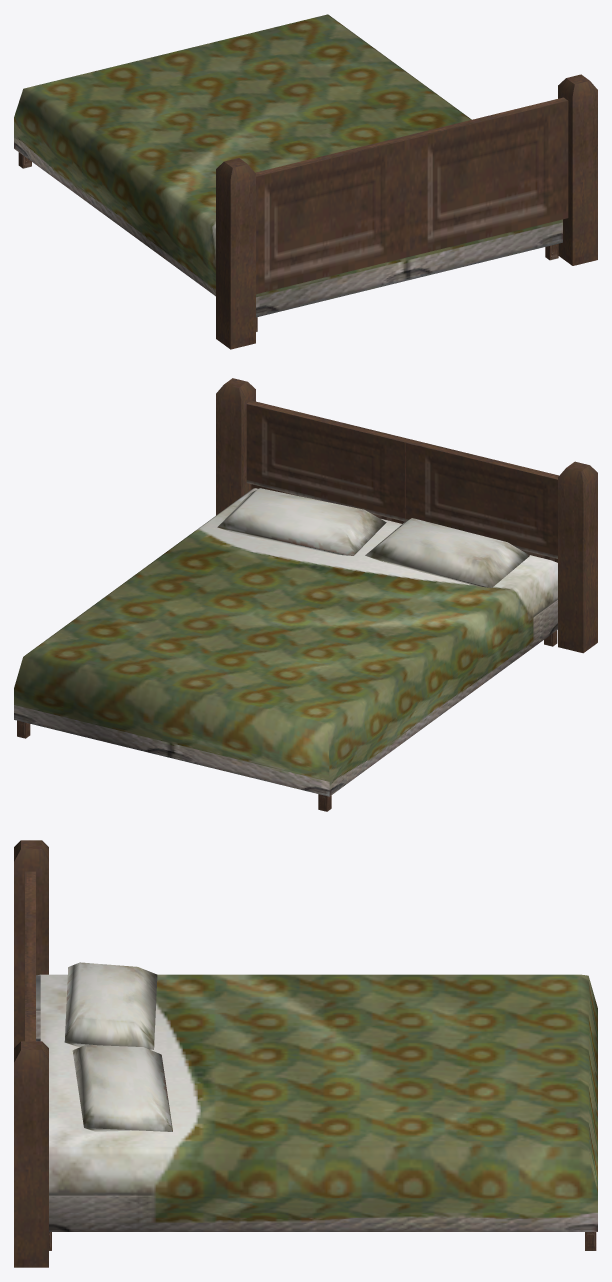
Rendered from slum_kingwood1.fbx.
3 renders of one model, top to bottom at view 1: azimuth 30°, elevation 25°; view 2: azimuth 150°, elevation 25°; view 3: azimuth 270°, elevation 25°, orthographic. The views are drawn at different scales.
Parts seen in each view (by area): view 1: mesh_1, mesh_0; view 2: mesh_1, mesh_0, mesh_2; view 3: mesh_1, mesh_0.
Boxes of the visible parts, x1,y1,x2,y2 form: mesh_1: [14, 14, 562, 317]; mesh_0: [216, 74, 597, 349]; mesh_1: [14, 488, 557, 796]; mesh_0: [216, 378, 597, 653]; mesh_2: [17, 630, 557, 811]; mesh_1: [36, 962, 597, 1231]; mesh_0: [14, 840, 48, 1267].
Bounding box in the file's own units: 232 × 108 × 265.
Materials: 1 (1 with a texture image).
